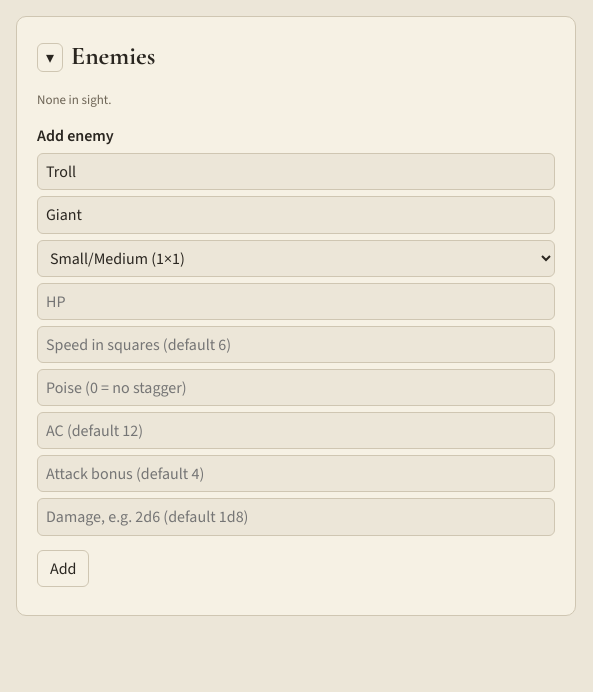
Test: <EnemiesPanel /> adding › adds an enemy with the form values, then clears the form
Earlier steps of the test are not shown.
Select "Huge (3×3)" in the dropdown named "Size". click: (296, 258)
box: x1=37 y1=240 x2=555 y2=276
Type "400" into the number field labelled "HP". click: (296, 301)
box: x1=37 y1=282 x2=555 y2=320
Type "5" into the number field labelled "Speed". click: (296, 344)
box: x1=37 y1=326 x2=555 y2=363
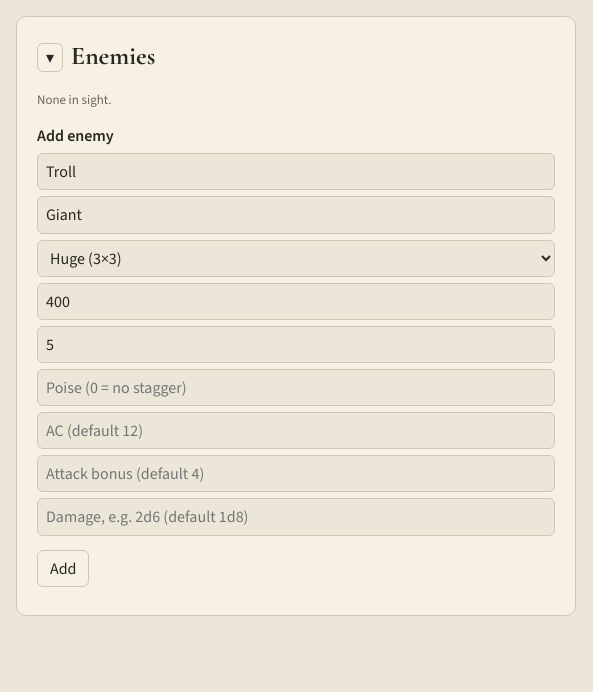
Type "30" into the number field labelled "Poise". click: (296, 388)
box: x1=37 y1=369 x2=555 y2=406
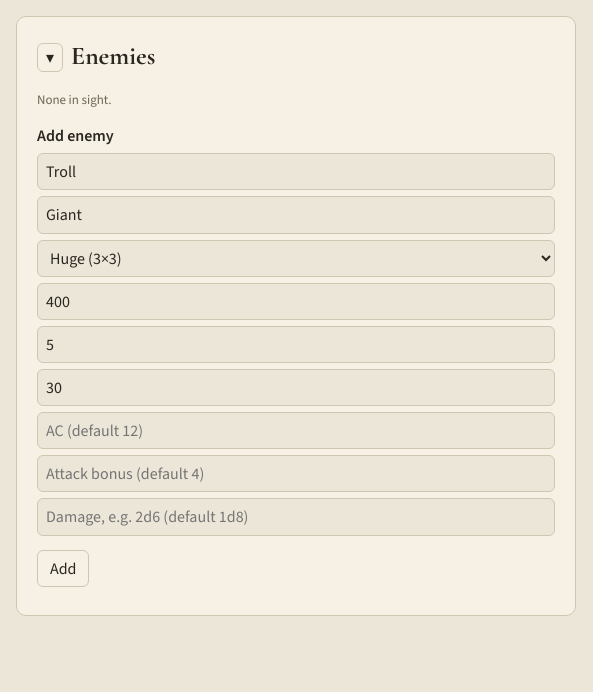
Type "15" into the number field labelled "AC". click: (296, 431)
box: x1=37 y1=412 x2=555 y2=449
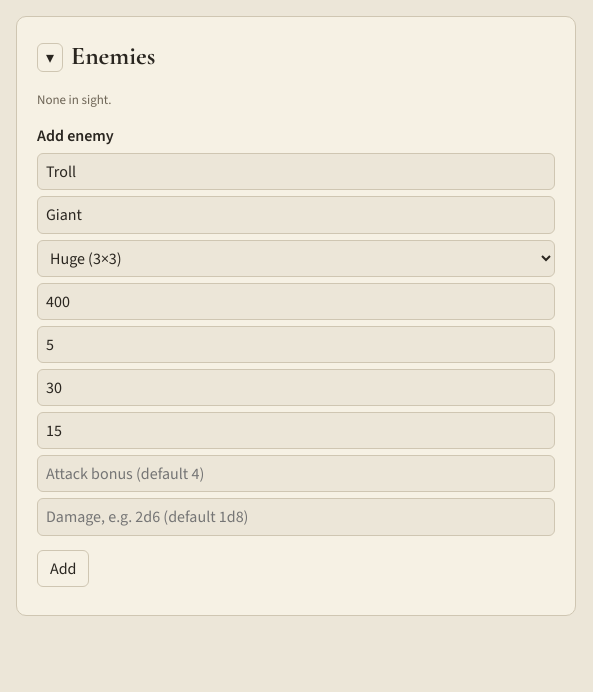
Type "6" into the number field labelled "Attack bonus". click: (296, 474)
box: x1=37 y1=455 x2=555 y2=492
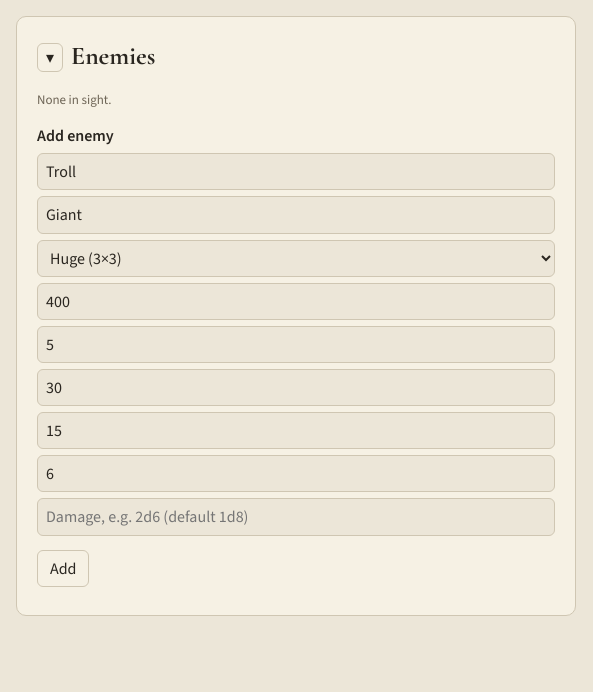
Type "3d10" into the field labelled "Damage". click: (296, 517)
box: x1=37 y1=498 x2=555 y2=536
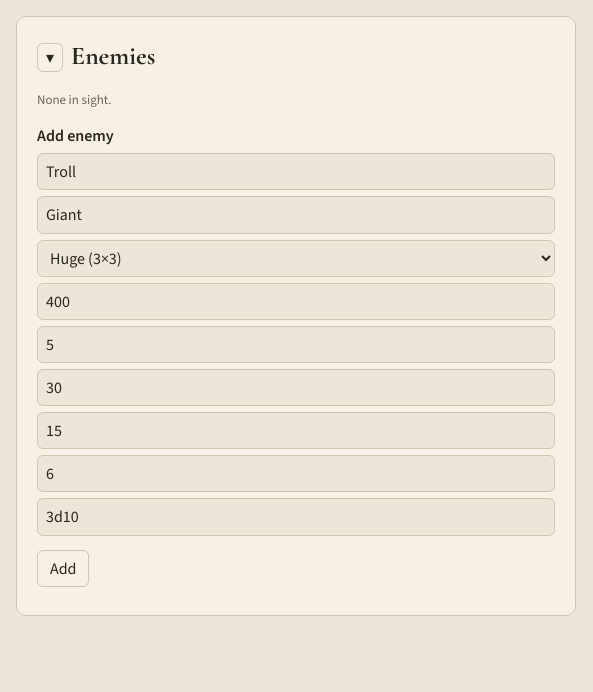
Click the button "Add". click: (63, 568)
box: x1=37 y1=550 x2=90 y2=587
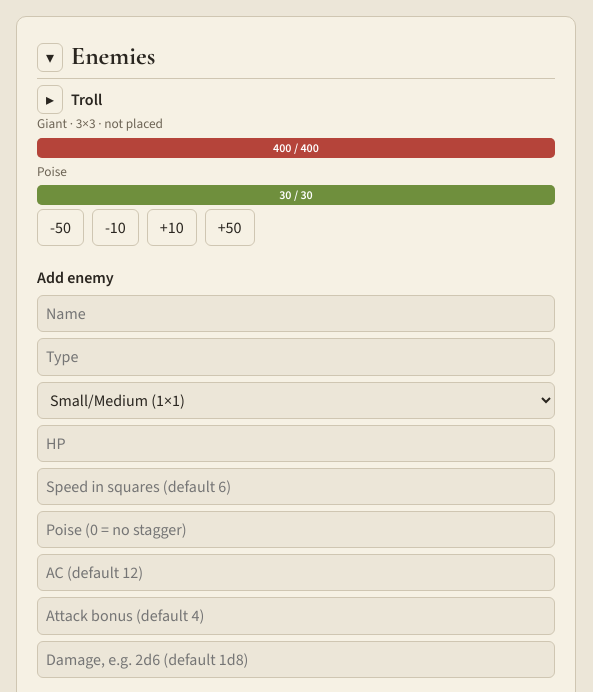
Expected: the text "Troll" is shown, x1=71 y1=88 x2=102 y2=111
Expected: the field labelled "Name" is empty, x1=37 y1=295 x2=555 y2=332
